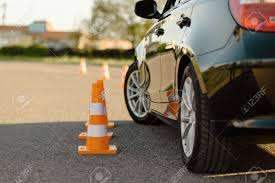car: (124, 1, 275, 174)
cone: (78, 88, 118, 154), (77, 80, 117, 141)
